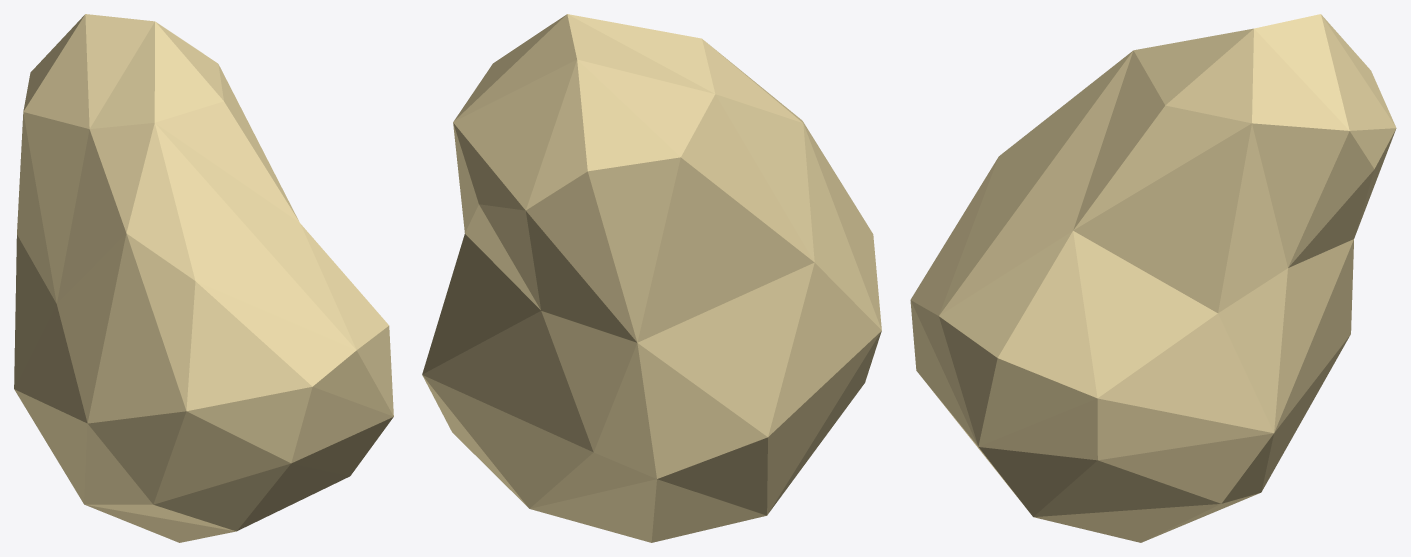
File: Rock (65).fbx
3 renders of one model, left to right at view 1: azimuth 30°, elevation 25°; view 2: azimuth 150°, elevation 25°; view 3: azimuth 270°, elevation 25°, orthographic. The views are drawn at different scales.
Visible parts, largest first — view 1: Asteroid64; view 2: Asteroid64; view 3: Asteroid64.
Boxes of the visible parts, left/top/right/bottom form: Asteroid64: left=14, top=14, right=393, bottom=542; Asteroid64: left=422, top=14, right=881, bottom=542; Asteroid64: left=910, top=14, right=1396, bottom=542.
Bounding box in the file's own units: 68.46 × 97.2 × 86.4.
